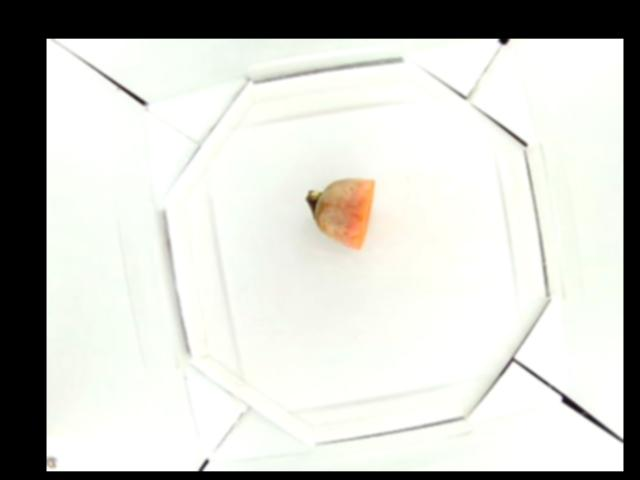Carrot: (305, 177, 378, 249)
